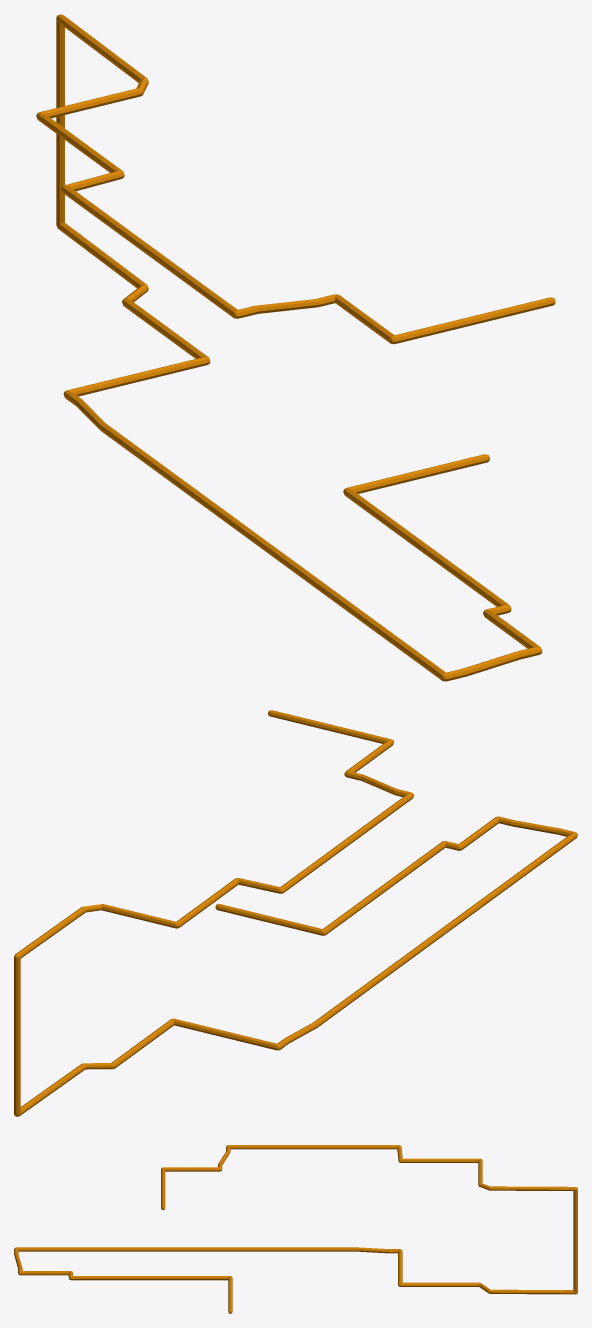
3 renders of one model, top to bottom at view 1: azimuth 30°, elevation 25°; view 2: azimuth 150°, elevation 25°; view 3: azimuth 270°, elevation 25°, orthographic. The views are drawn at different scales.
Bounding box in the file's own units: 666 × 520 × 2475.
